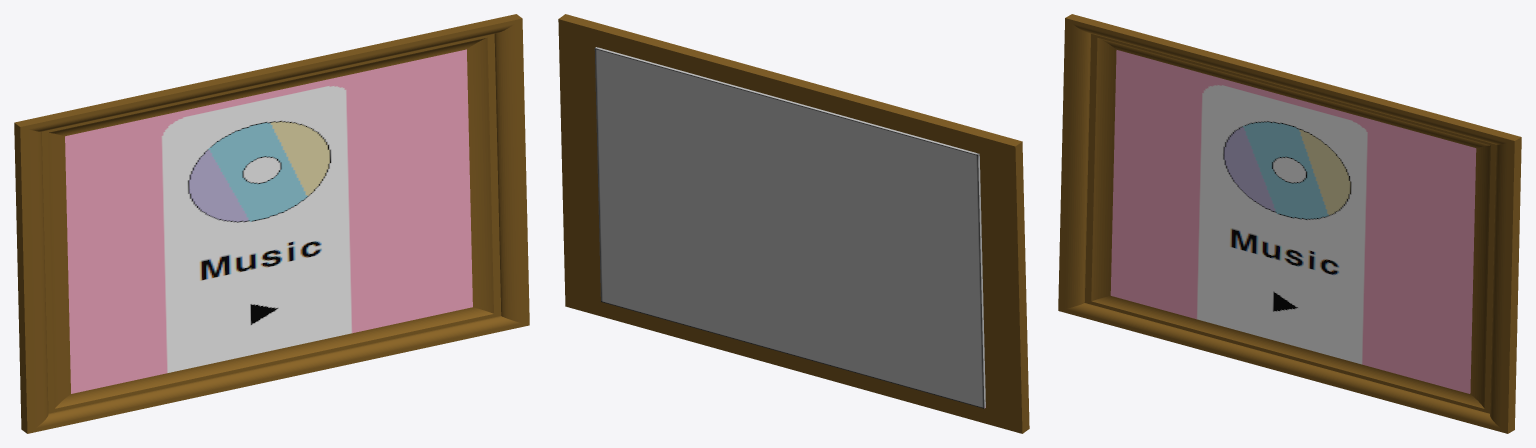
3 renders of one model, left to right at view 1: azimuth 30°, elevation 25°; view 2: azimuth 150°, elevation 25°; view 3: azimuth 330°, elevation 25°, orthographic. The views are drawn at different scales.
Visible parts, largest first — view 1: mp3, node_id7; view 2: mp3, node_id7; view 3: mp3, node_id7.
Part boxes in pixels (<box>): mp3: <box>65,49,472,393</box>; node_id7: <box>14,14,529,433</box>; mp3: <box>594,47,985,408</box>; node_id7: <box>558,14,1029,433</box>; mp3: <box>1110,50,1476,393</box>; node_id7: <box>1058,14,1521,433</box>.
Bounding box in the file's own units: 2.31 × 1.37 × 0.2423.
Materials: 2 (1 with a texture image).
